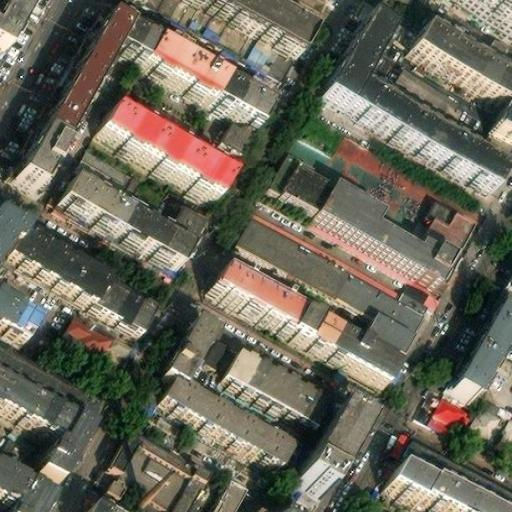building: (319, 9, 497, 188), (233, 227, 427, 349), (211, 275, 409, 393), (310, 178, 454, 283), (117, 18, 265, 115), (406, 27, 512, 142), (155, 380, 287, 472), (97, 109, 227, 202), (60, 179, 194, 265), (44, 6, 129, 132), (398, 432, 512, 512), (107, 431, 212, 512), (211, 351, 310, 429), (303, 396, 374, 483), (447, 302, 512, 397), (391, 456, 500, 512), (84, 275, 154, 333), (390, 62, 463, 117), (263, 154, 326, 213), (161, 320, 214, 387), (412, 196, 473, 253), (76, 144, 141, 193), (18, 120, 65, 179), (63, 308, 118, 351), (470, 395, 512, 445), (429, 392, 471, 434), (207, 473, 250, 512), (223, 106, 254, 143), (196, 340, 229, 373)
